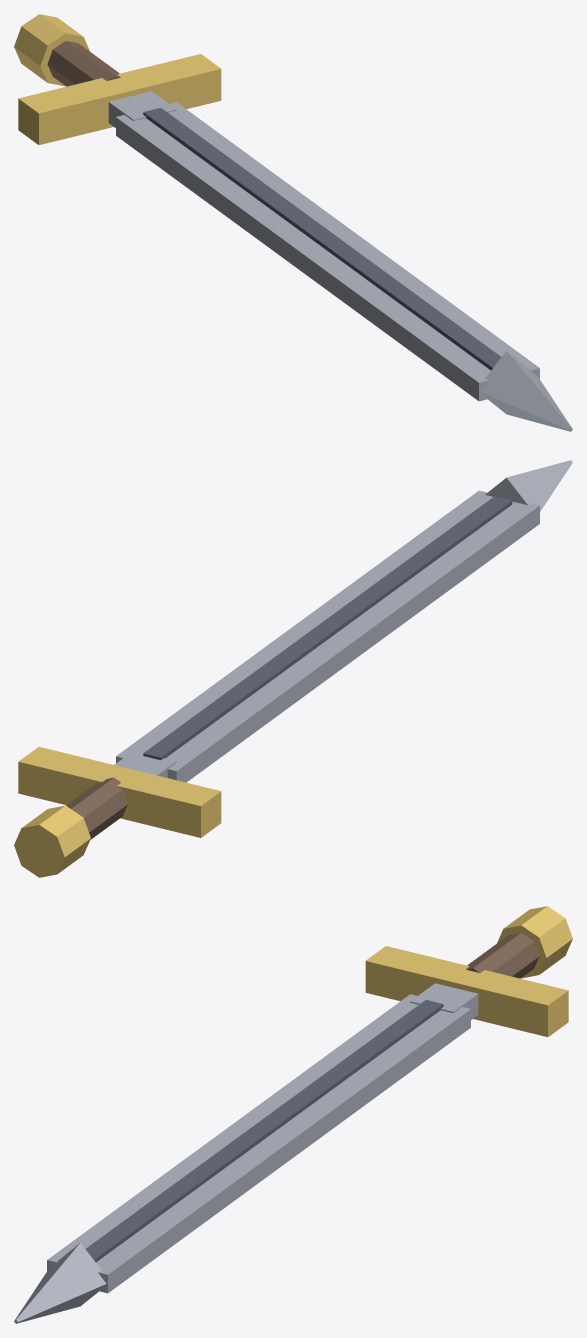
File: warrior_sword.glb
3 views of the same model, one above another, from view 1: azimuth 30°, elevation 25°; view 2: azimuth 150°, elevation 25°; view 3: azimuth 330°, elevation 25° (orthographic).
Visible parts, largest first — view 1: WarriorSword; view 2: WarriorSword; view 3: WarriorSword.
Boxes of the visible parts, <box> form: WarriorSword: <box>14,14,572,431</box>; WarriorSword: <box>14,460,572,877</box>; WarriorSword: <box>14,906,572,1323</box>.
Size of the model in its own units: 0.36 by 0.12 by 1.82.
